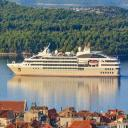cruises: (7, 42, 123, 80)
